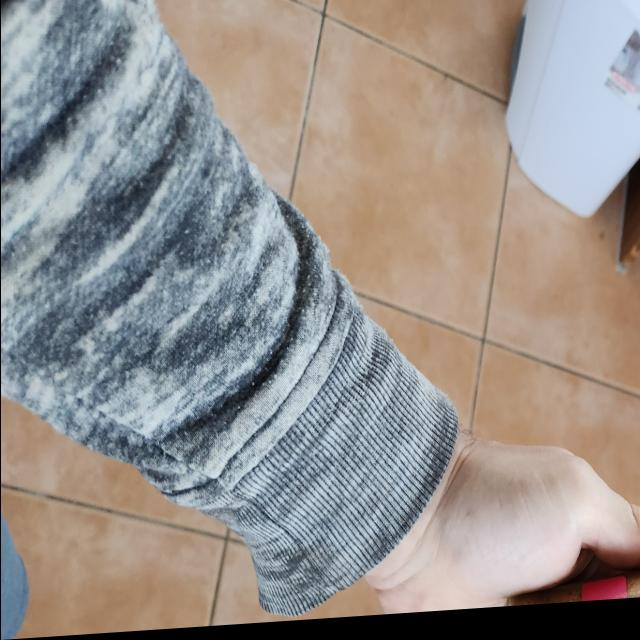cajun: (500, 559, 640, 614)
